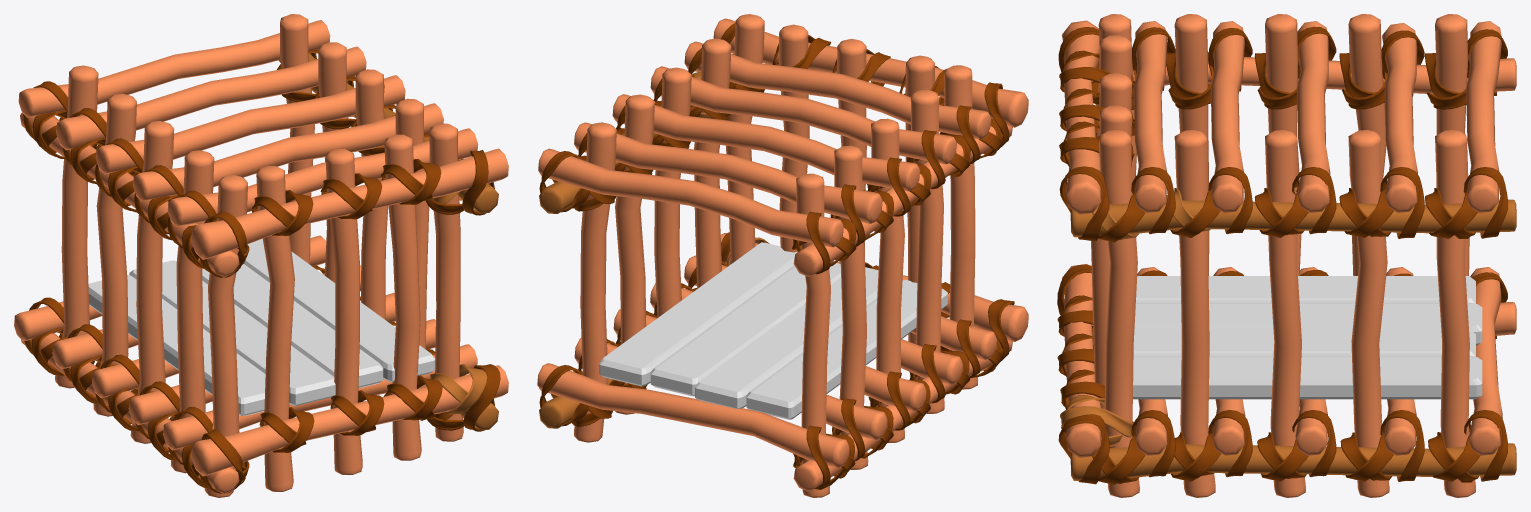
The model's file is cage.fbx.
3 renders of one model, left to right at view 1: azimuth 30°, elevation 25°; view 2: azimuth 150°, elevation 25°; view 3: azimuth 270°, elevation 25°, orthographic. The views are drawn at different scales.
Parts seen in each view (by area): view 1: Torus.049, Cube.002, Torus.050, Cylinder.022, Cylinder.023, Cylinder.024, Cylinder.010, Cylinder.017, Cylinder.014, Cylinder.011, Cylinder.016, Cylinder.002 (+29 smaller); view 2: Torus.049, Cube.002, Cylinder.021, Cylinder.014, Torus.050, Cylinder.010, Cylinder.011, Cylinder.016, Cylinder.020, Cylinder.006, Cylinder.005, Cylinder.004 (+23 smaller); view 3: Cube.002, Torus.049, Cylinder.003, Cylinder.005, Cylinder.004, Cylinder.006, Cylinder.002, Torus.050, Cylinder.013, Cylinder.015, Cylinder.014, Cylinder.016 (+48 smaller).
Part boxes in pixels (x1,y1,x2,y2): Torus.049: (20, 65, 247, 497); Cube.002: (88, 238, 435, 415); Torus.050: (32, 110, 249, 493); Cylinder.022: (384, 134, 421, 460); Cylinder.023: (325, 149, 362, 474); Cylinder.024: (256, 166, 294, 491); Cylinder.010: (56, 46, 366, 150); Cylinder.017: (191, 148, 508, 259); Cylinder.014: (18, 20, 330, 117); Cylinder.011: (95, 75, 405, 174); Cylinder.016: (133, 103, 443, 201); Cylinder.002: (429, 123, 463, 441); Torus.049: (793, 65, 1012, 497); Cube.002: (599, 242, 947, 419); Cylinder.021: (537, 363, 849, 467); Cylinder.014: (538, 148, 843, 247); Torus.050: (792, 82, 1014, 489); Cylinder.010: (574, 122, 882, 223); Cylinder.011: (612, 94, 919, 191); Cylinder.016: (650, 66, 956, 164); Cylinder.020: (684, 41, 991, 139); Cylinder.006: (574, 122, 616, 442); Cylinder.005: (615, 94, 654, 414); Cylinder.004: (654, 67, 691, 317); Cube.002: (1133, 276, 1482, 399); Torus.049: (1091, 14, 1516, 335); Cylinder.003: (1174, 130, 1215, 497); Cylinder.005: (1348, 130, 1389, 497); Cylinder.004: (1265, 130, 1305, 497); Cylinder.006: (1435, 130, 1475, 497); Cylinder.002: (1098, 130, 1139, 497); Torus.050: (1057, 27, 1466, 341); Cylinder.013: (1070, 443, 1516, 480); Cylinder.015: (1070, 199, 1516, 237); Cylinder.014: (1466, 21, 1501, 212); Cylinder.016: (1210, 21, 1244, 212).
Size of the model in its own units: 512 by 504 by 592.
